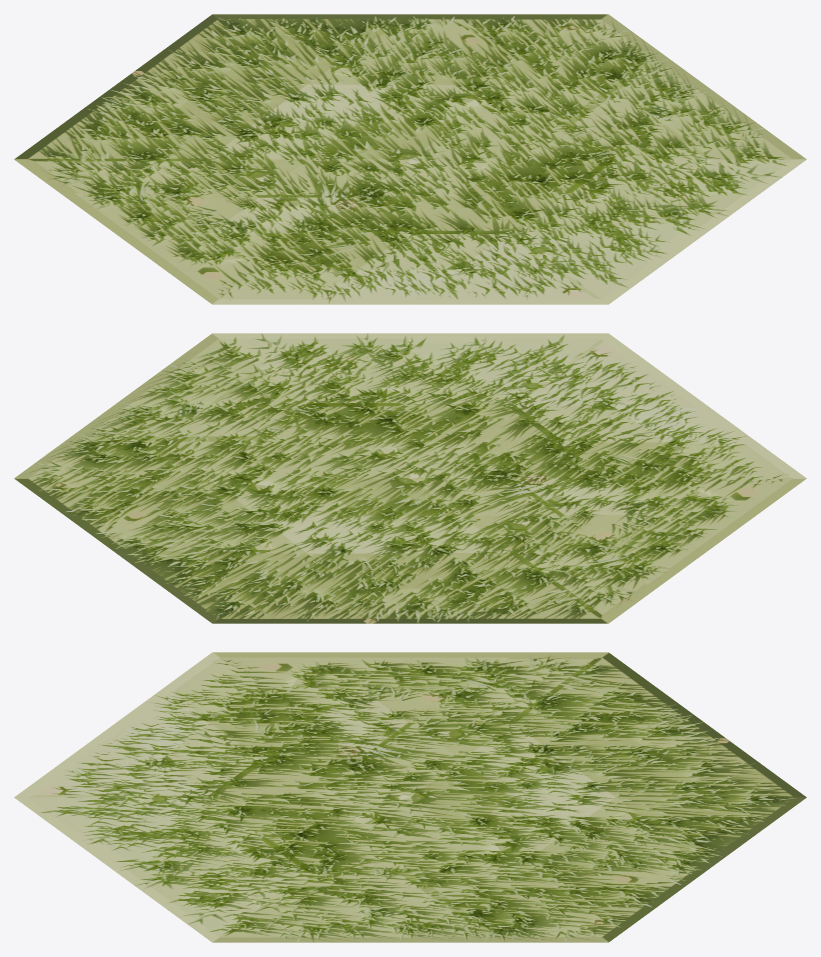
Rendered from grassland.glb.
3 renders of one model, top to bottom at view 1: azimuth 30°, elevation 25°; view 2: azimuth 150°, elevation 25°; view 3: azimuth 270°, elevation 25°, orthographic.
Visible parts, largest first — view 1: Deciduousforest_flat; view 2: Deciduousforest_flat; view 3: Deciduousforest_flat.
Boxes of the visible parts, x1=… form: Deciduousforest_flat: x1=14, y1=14, x2=806, y2=304; Deciduousforest_flat: x1=14, y1=333, x2=806, y2=623; Deciduousforest_flat: x1=14, y1=652, x2=806, y2=942.
Size of the model in its own units: 1.73 by 0 by 2.
Materials: 1 (1 with a texture image).
